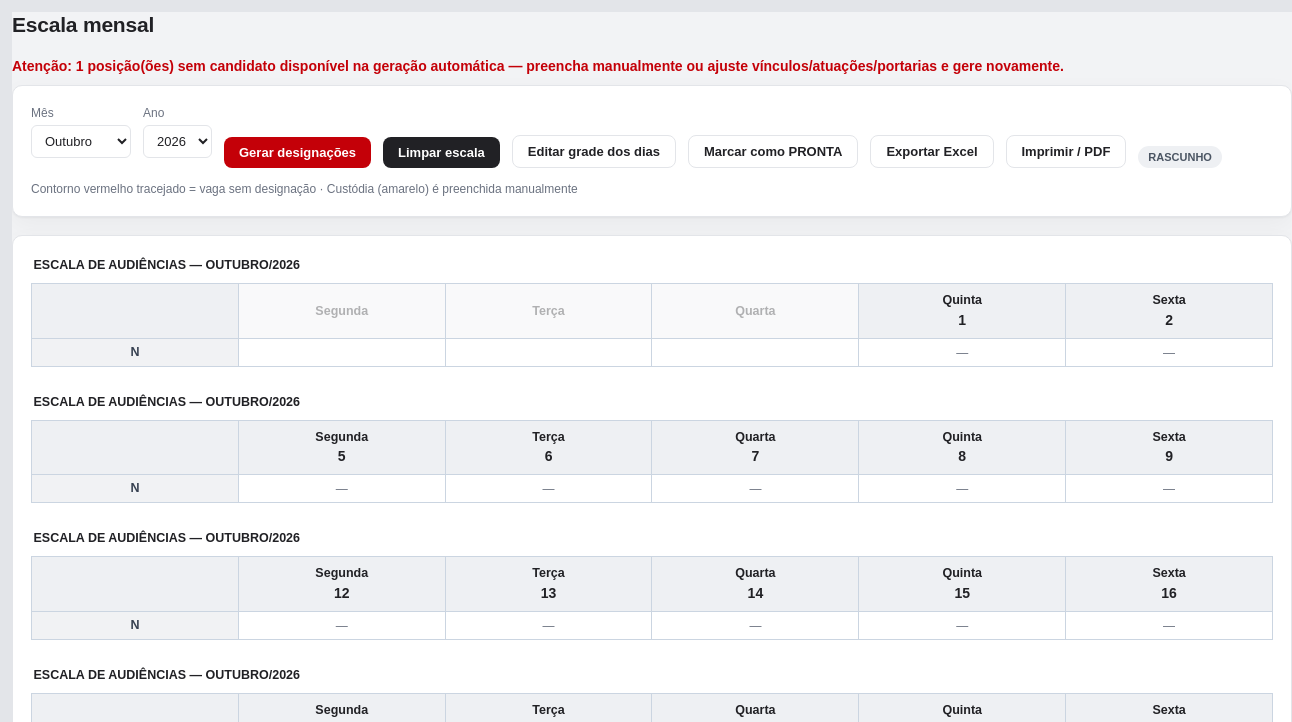
Scenario: banner de vagas sem candidato › fica oculto durante a geracao e a atualizacao dos dados finais
Expected: the text "Atenção: 1 posição(ões) sem candidato disponível" is shown, [12,58,1064,74]
Click the button "Gerar designações": click(298, 153) [224,137,371,168]
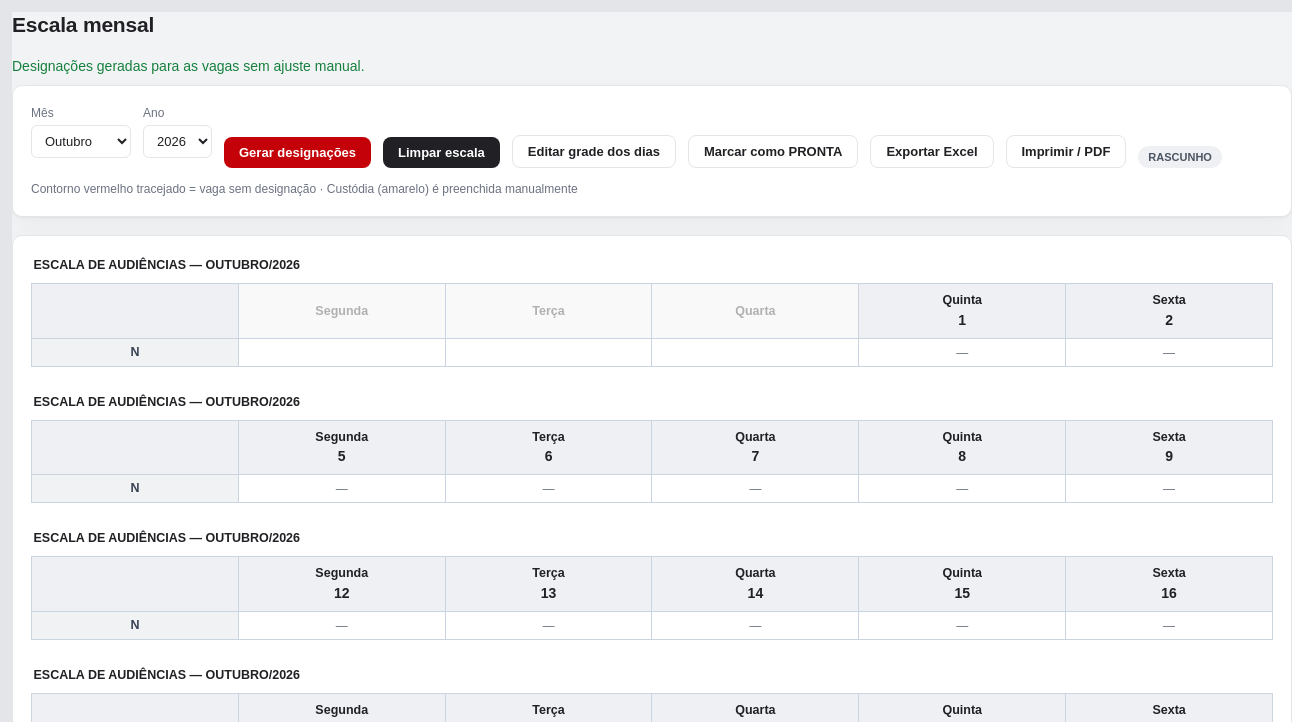
Expected: the text "Atenção: 1 posição(ões) sem candidato disponível" is gone
Expected: the text "Designações geradas para as vagas sem ajuste manual." is shown, [12,58,364,74]
Expected: the text "posição(ões) sem candidato disponível" is gone
